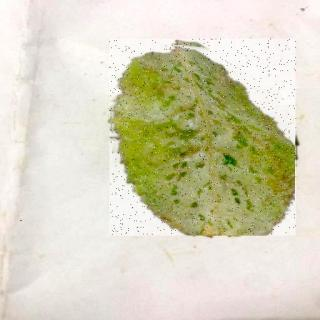Red Leaf Spot: (111, 40, 298, 237)
